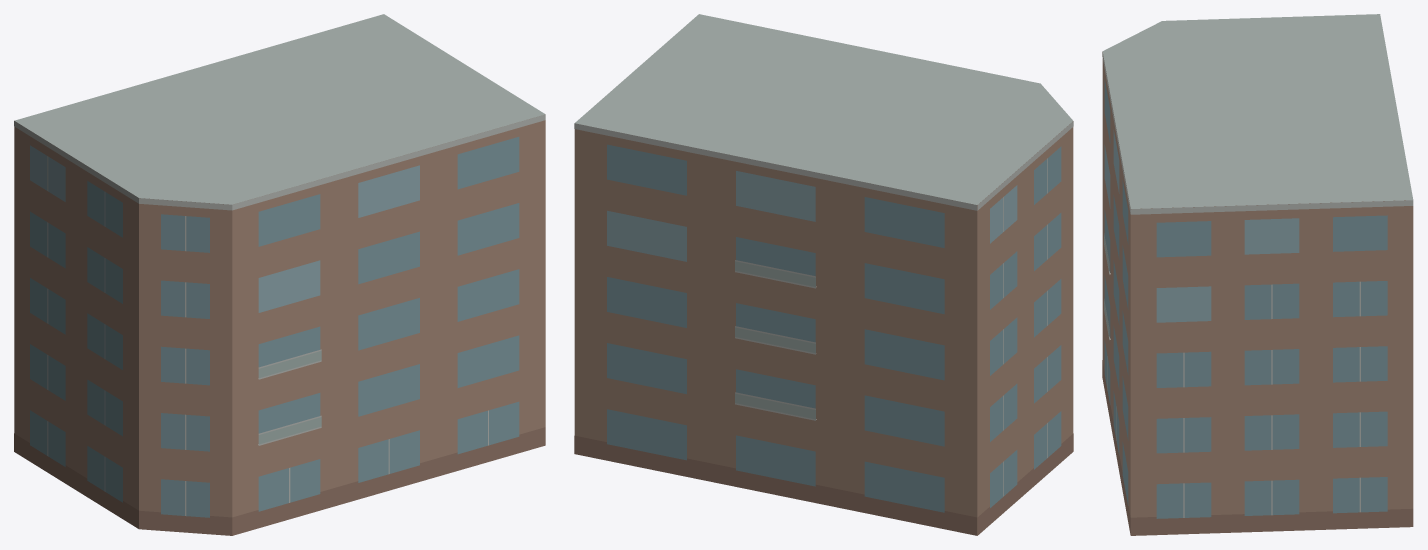
File: survey-upis-32757663.glb
3 views of the same model, side by side, from view 1: azimuth 30°, elevation 25°; view 2: azimuth 150°, elevation 25°; view 3: azimuth 270°, elevation 25° (orthographic).
Parts seen in each view (by area): view 1: survey-upis-32757663.tmp; view 2: survey-upis-32757663.tmp; view 3: survey-upis-32757663.tmp.
Boxes of the visible parts, left/top/right/bottom form: survey-upis-32757663.tmp: left=14, top=14, right=545, bottom=535; survey-upis-32757663.tmp: left=574, top=14, right=1073, bottom=535; survey-upis-32757663.tmp: left=1102, top=14, right=1413, bottom=535.
Bounding box in the file's own units: 17.93 × 14 × 12.08.
